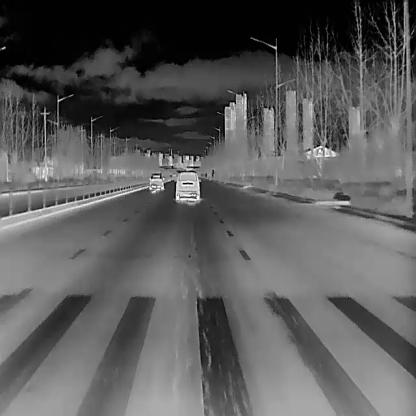car: (175, 172, 201, 202), (149, 172, 164, 190)
